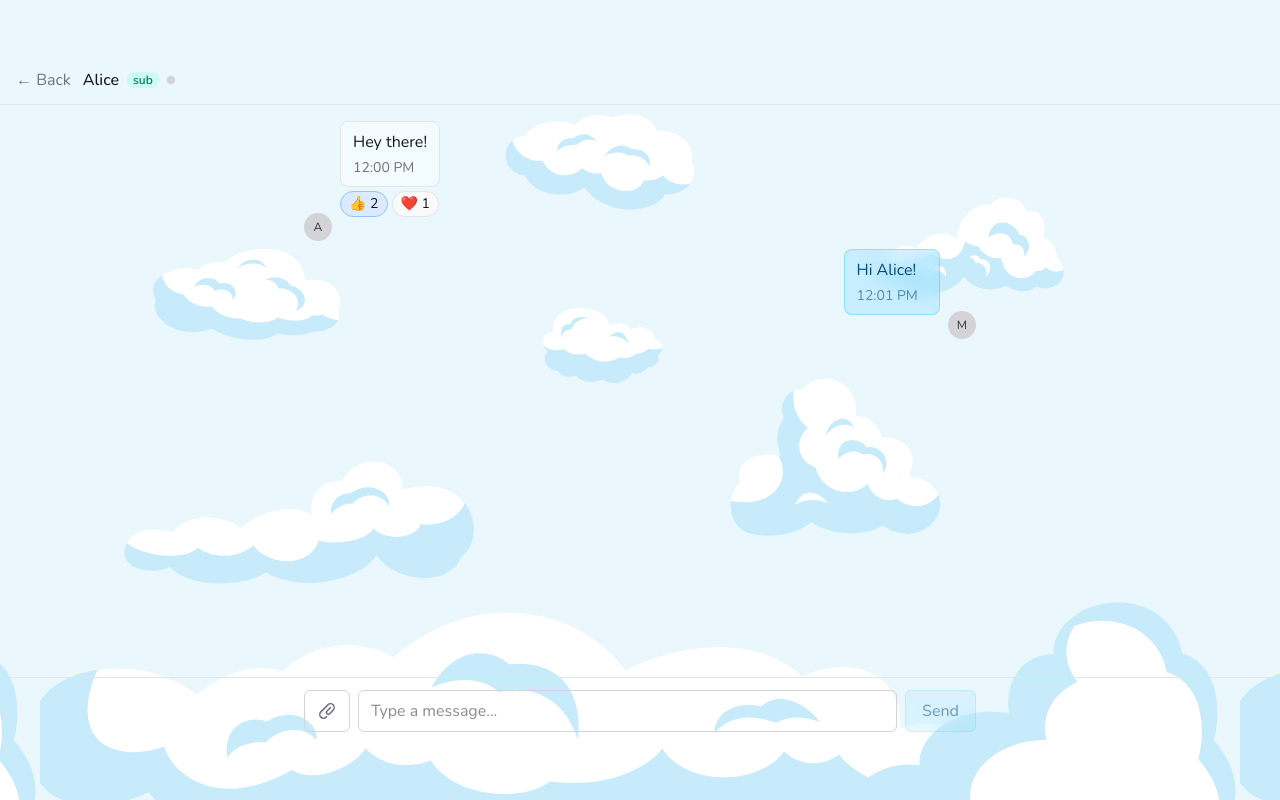
it: ChatClient reactions › optimistically updates reaction count when adding
The width and height of the screenshot is (1280, 800).
// user-1 has not reacted with ❤️ yet. Click it to add.
Click the button "❤️ 1" at (415, 204), box 392,191 -> 439,217
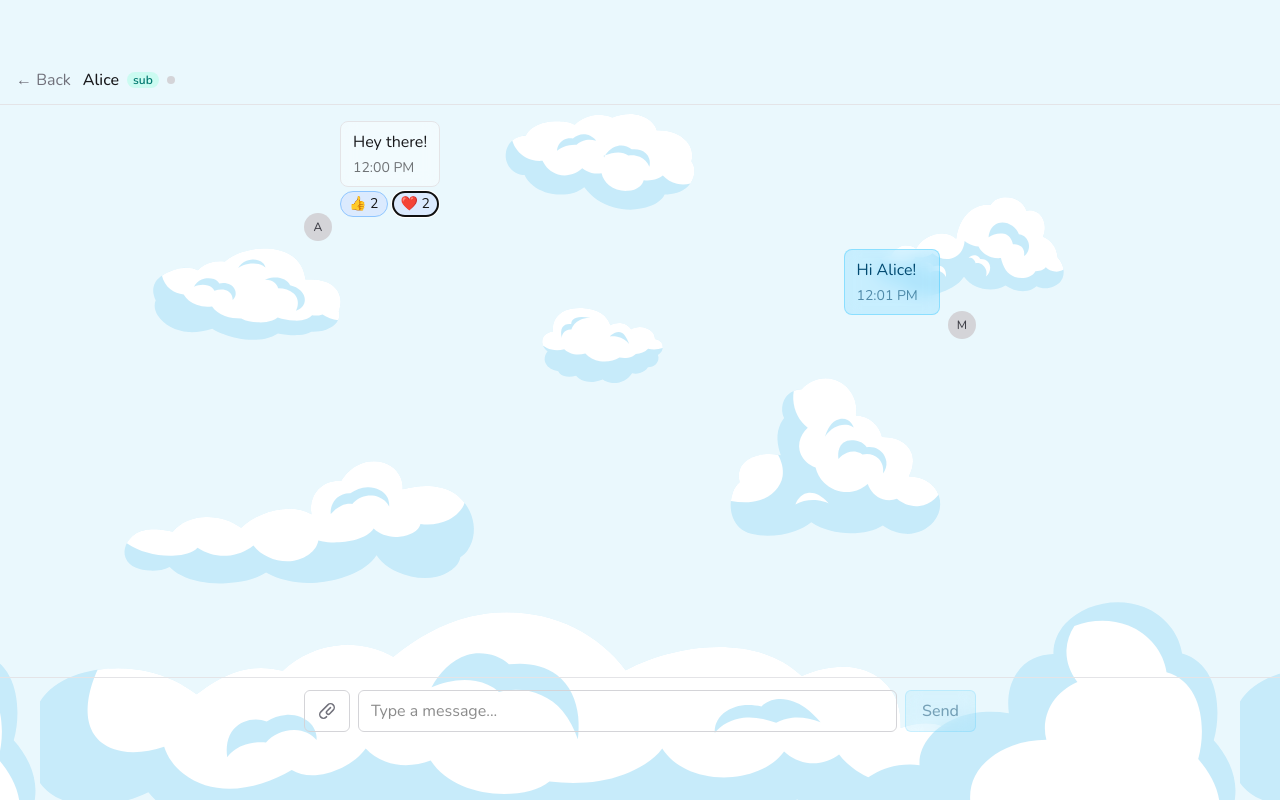
Now the button "❤️ 2" is shown, box 392,191 -> 439,217
